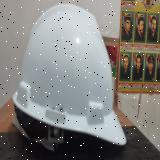Helmet: (12, 3, 127, 146)
